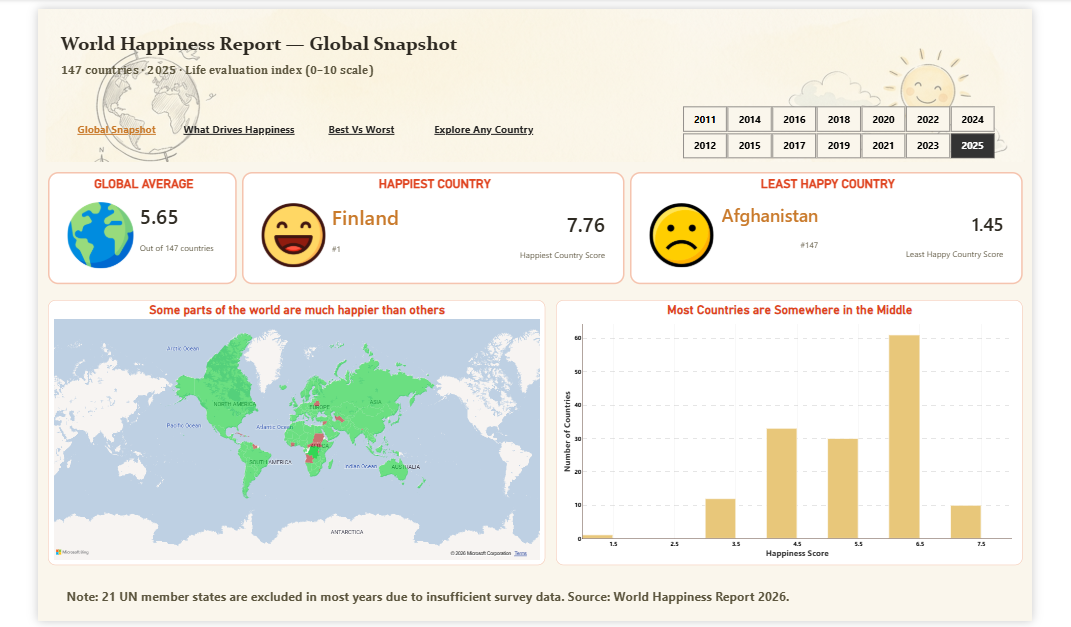

The page's visual inventory and layout, read from the dashboard file:
{"tool":"powerbi","page":{"name":"Global Snapshot","canvas":[1950,1200],"ordinal":0},"visuals":[{"type":"image","box":[0,0,1950,300],"z":0},{"type":"textbox","box":[40,40,800,90],"z":1000},{"type":"textbox","box":[40,100,650,70],"z":2000},{"type":"cardVisual","title":"GLOBAL AVERAGE","fields":{"Data":["_Measures.GlobalAverageScore"]},"box":[20,320,370,220],"z":3000},{"type":"cardVisual","title":"HAPPIEST COUNTRY","fields":{"Data":["_Measures.HappiestCountryName","_Measures.HappiestCountryScore"]},"box":[400,320,750,220],"z":4000},{"type":"cardVisual","title":"LEAST HAPPY COUNTRY","fields":{"Data":["_Measures.LeastHappyCountryName","_Measures.LeastHappyCountryScore"]},"box":[1160,320,770,220],"z":5000},{"type":"histogramF963F133BA02A0B35D286F09F80E9C78","title":"Most Countries are Somewhere in the Middle","fields":{"col_4":["Continent_Map.Country"],"col_2":["WHR_Data.HappinessScore"]},"box":[1015,570,915,520],"z":6000},{"type":"filledMap","title":"Some parts of the world are much happier than others","fields":{"Category":["CountryCode_Map.Country"]},"box":[20,570,975,520],"z":7000},{"type":"textbox","box":[50,1130,1600,70],"z":8000},{"type":"pageNavigator","box":[40,210,950,50],"z":9000},{"type":"slicer","fields":{"Values":["WHR_Data.Year"]},"box":[1240,185,660,115],"z":10000}]}

Visuals, with their boxes on the page's 1950x1200 design canvas (x1, y1, x2, y2). These are canvas units, not pixel positions in the 1071x627 screenshot, which may show the page scaled, cropped or inside an application window:
image: (left=0, top=0, right=1950, bottom=300)
textbox: (left=40, top=40, right=840, bottom=130)
textbox: (left=40, top=100, right=690, bottom=170)
"GLOBAL AVERAGE" cardVisual: (left=20, top=320, right=390, bottom=540)
"HAPPIEST COUNTRY" cardVisual: (left=400, top=320, right=1150, bottom=540)
"LEAST HAPPY COUNTRY" cardVisual: (left=1160, top=320, right=1930, bottom=540)
"Most Countries are Somewhere in the Middle" histogramF963F133BA02A0B35D286F09F80E9C78: (left=1015, top=570, right=1930, bottom=1090)
"Some parts of the world are much happier than others" filledMap: (left=20, top=570, right=995, bottom=1090)
textbox: (left=50, top=1130, right=1650, bottom=1200)
pageNavigator: (left=40, top=210, right=990, bottom=260)
slicer - WHR_Data.Year: (left=1240, top=185, right=1900, bottom=300)
